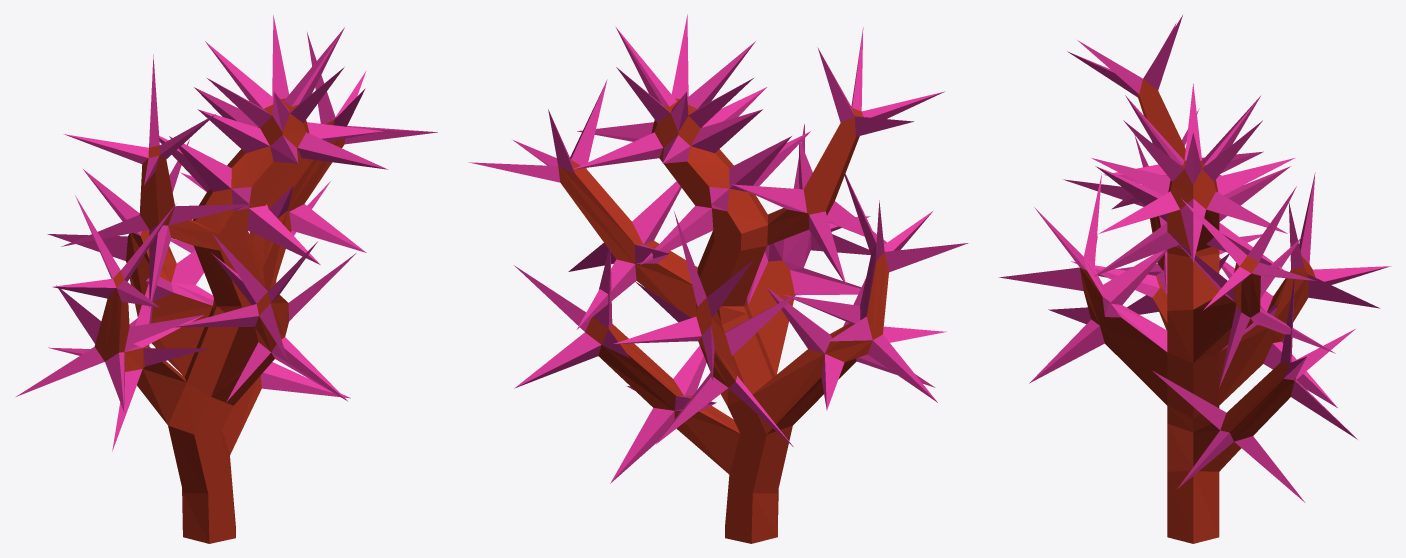
File: CoralSpiked.FBX
3 renders of one model, left to right at view 1: azimuth 30°, elevation 25°; view 2: azimuth 150°, elevation 25°; view 3: azimuth 270°, elevation 25°, orthographic.
Parts seen in each view (by area): view 1: Line056; view 2: Line056; view 3: Line056.
Boxes of the visible parts, <box> form: Line056: <box>16,15,437,543</box>; Line056: <box>469,14,968,543</box>; Line056: <box>999,15,1391,543</box>.
Size of the model in its own units: 40.28 by 44.86 by 32.77.
